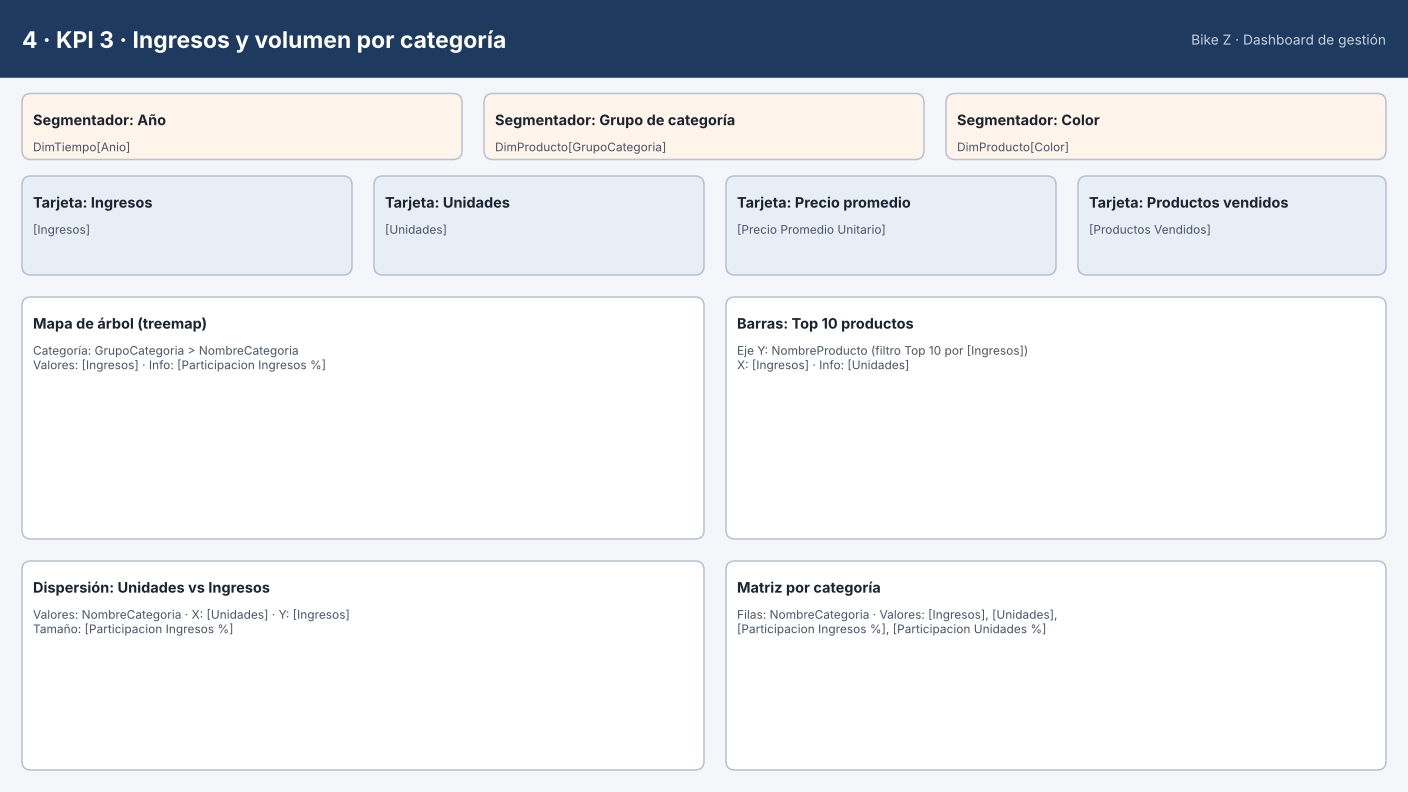

The dashboard page shown, as its layout file describes it:
{"tool":"powerbi","page":{"name":"KPI 3 Catálogo","canvas":[1920,1080],"ordinal":3},"visuals":[{"type":"cardVisual","fields":{"Data":["Medidas.Productos Vendidos"]},"box":[10,0,280,280],"z":0},{"type":"cardVisual","fields":{"Data":["Medidas.Precio Promedio Unitario"]},"box":[291.6,0,280,280],"z":1000},{"type":"cardVisual","fields":{"Data":["Medidas.Ingresos"]},"box":[572.4,2.2,280,280],"z":2000},{"type":"cardVisual","fields":{"Data":["Medidas.Unidades"]},"box":[853.2,0,280,280],"z":3000},{"type":"clusteredBarChart","fields":{"Category":["DimProducto.NombreProducto"],"Y":["Medidas.Ingresos"]},"box":[10.8,289.4,842.4,790.6],"z":4000},{"type":"donutChart","fields":{"Category":["DimProducto.GrupoCategoria"],"Y":["Medidas.Ingresos"]},"box":[1134,0,786.2,540],"z":5000},{"type":"tableEx","fields":{"Values":["DimProducto.GrupoCategoria","DimProducto.NombreCategoria","DimProducto.NombreProducto","Medidas.Ranking Producto","Medidas.Ingresos","Medidas.Unidades","Medidas.Precio Promedio Unitario","Medidas.Participacion Unidades %"]},"box":[853.2,540,1067,540],"z":6000},{"type":"slicer","fields":{"Values":["DimTiempo.Anio"]},"box":[853.2,289.4,280.8,265.7],"z":6001}]}

Visuals, with their boxes in screenshot pixels (x1, y1, x2, y2), scaled from the page's 1920x1080 canvas onto the 1408x792 screenshot:
cardVisual - Medidas.Productos Vendidos: 7:0:213:205
cardVisual - Medidas.Precio Promedio Unitario: 214:0:419:205
cardVisual - Medidas.Ingresos: 420:2:625:207
cardVisual - Medidas.Unidades: 626:0:831:205
clusteredBarChart - DimProducto.NombreProducto x Medidas.Ingresos: 8:212:626:791
donutChart - DimProducto.GrupoCategoria x Medidas.Ingresos: 832:0:1407:396
tableEx - DimProducto.GrupoCategoria x DimProducto.NombreCategoria: 626:396:1407:791
slicer - DimTiempo.Anio: 626:212:832:407
